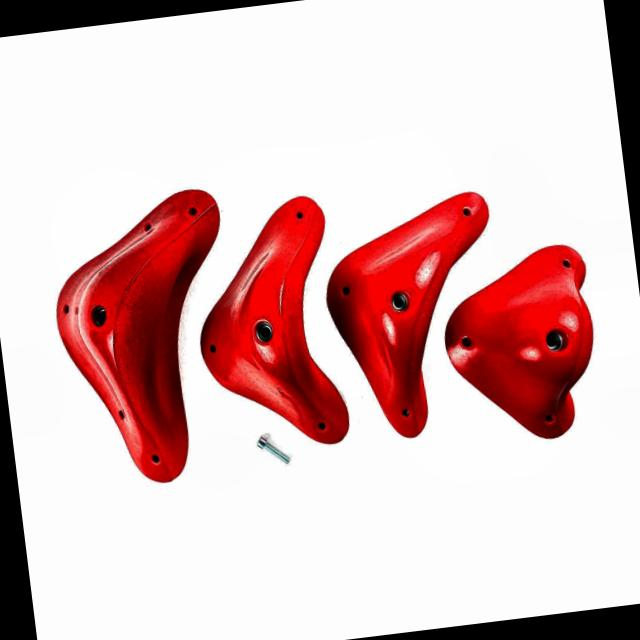Hold: (48, 168, 235, 500), (311, 174, 514, 464), (185, 182, 377, 472), (435, 238, 608, 448)
